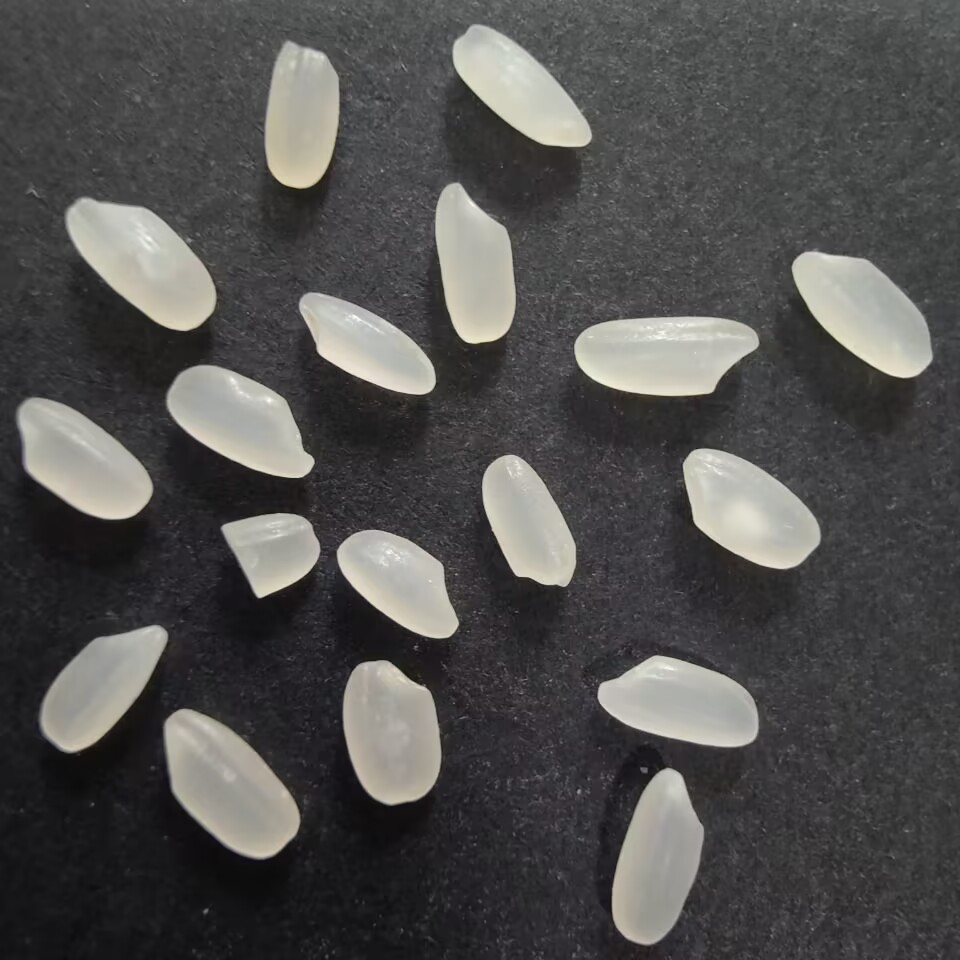broken: (216, 509, 322, 605)
rice: (157, 706, 306, 865), (60, 193, 222, 337), (789, 248, 940, 380), (10, 394, 156, 528), (162, 362, 323, 483), (606, 763, 711, 948), (448, 19, 594, 149), (680, 445, 829, 570), (583, 652, 765, 754), (36, 621, 169, 757), (337, 654, 446, 809), (570, 314, 764, 401), (293, 288, 443, 399), (331, 526, 465, 644), (430, 177, 523, 345), (482, 450, 582, 595), (260, 35, 350, 193)
